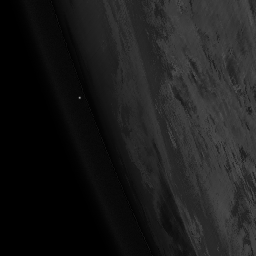Target: (77, 95, 83, 100)
